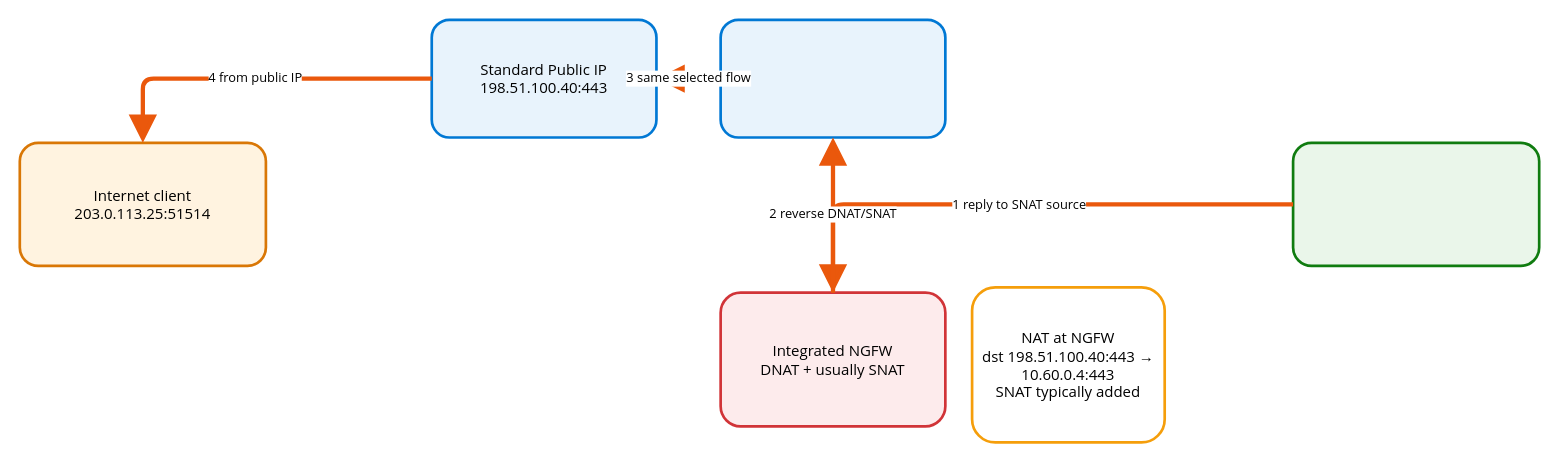
Image size: 1559x462. Some labels were removed from this diagram. The centre of each missing label's shape, as x and y in pixels:
Azure inbound LB 5-tuple → healthy NVA: the point at 832,78
Backend 10.60.0.4:443: the point at 1415,204
